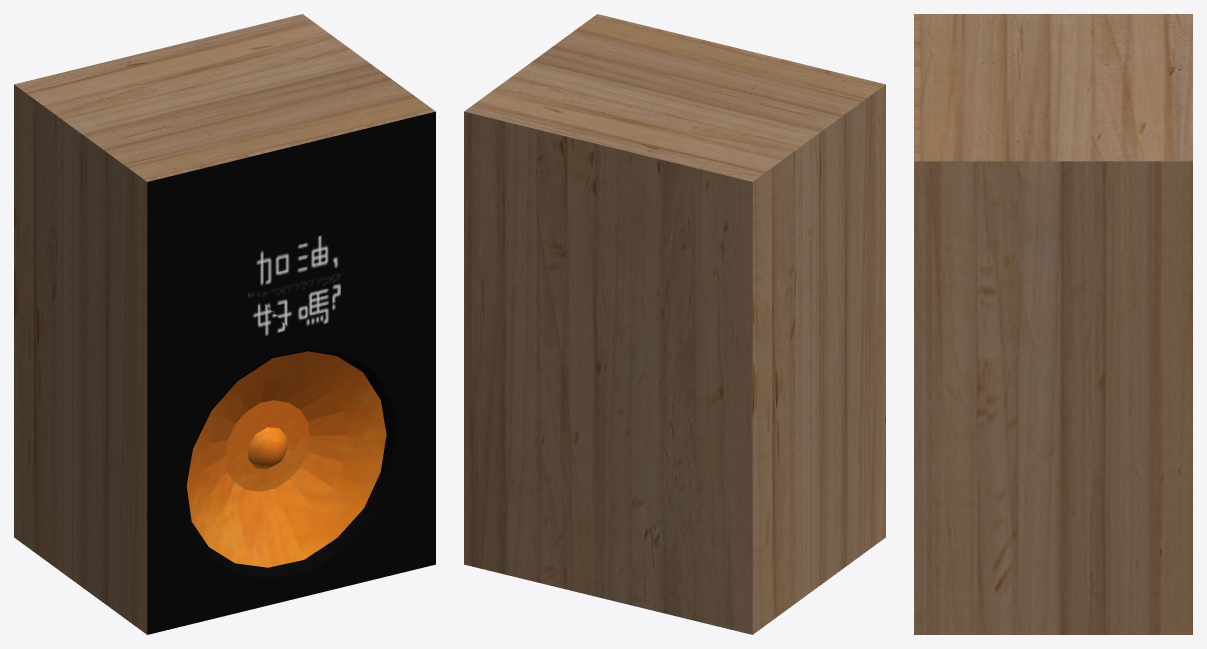
3 renders of one model, left to right at view 1: azimuth 30°, elevation 25°; view 2: azimuth 150°, elevation 25°; view 3: azimuth 270°, elevation 25°, orthographic. The views are drawn at different scales.
Parts seen in each view (by area): view 1: Box010, Sphere002; view 2: Box010; view 3: Box010.
Boxes of the visible parts, x1,y1,x2,y2 form: Box010: [14, 14, 435, 634]; Sphere002: [248, 427, 286, 469]; Box010: [464, 14, 885, 634]; Box010: [914, 14, 1192, 634].
Size of the model in its own units: 10 by 15 by 8.
Materials: 2 (2 with a texture image).
